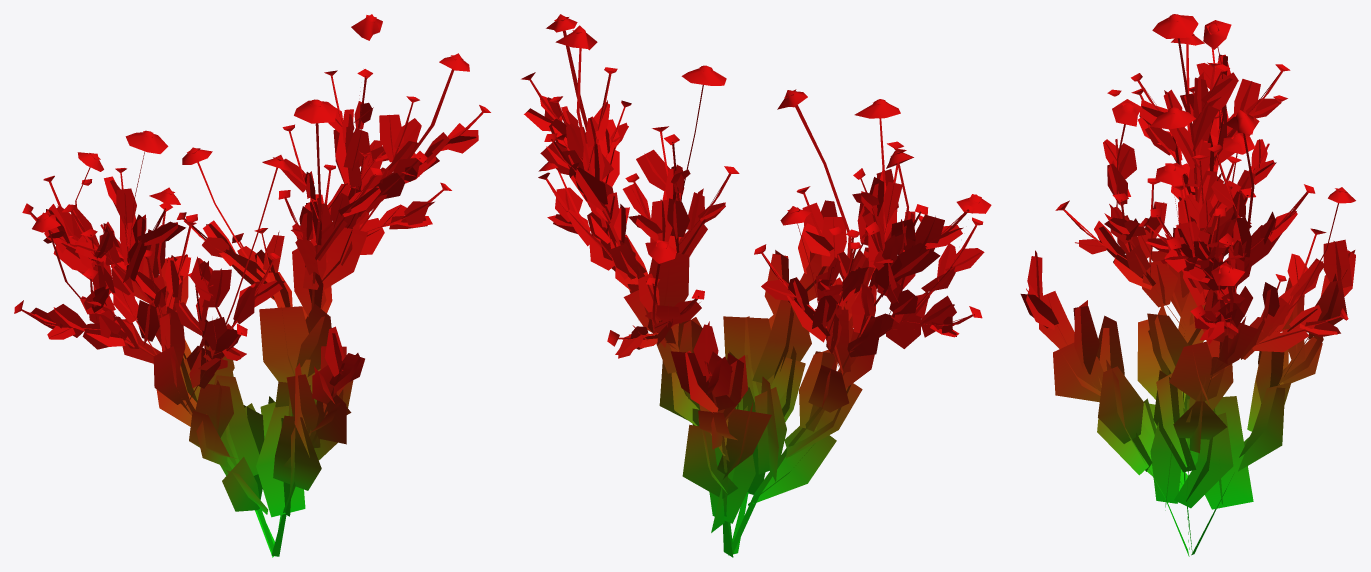
File: Chamomile_LOD3_Var2.fbx
3 views of the same model, side by side, from view 1: azimuth 30°, elevation 25°; view 2: azimuth 150°, elevation 25°; view 3: azimuth 270°, elevation 25° (orthographic). The views are drawn at different scales.
Visible parts, largest first — view 1: _un71_Var2_LOD3; view 2: _un71_Var2_LOD3; view 3: _un71_Var2_LOD3.
Boxes of the visible parts, <box> form: _un71_Var2_LOD3: <box>14,14,490,557</box>; _un71_Var2_LOD3: <box>521,14,991,557</box>; _un71_Var2_LOD3: <box>1020,14,1355,556</box>.
Size of the model in its own units: 58.2 by 60.38 by 36.27.
